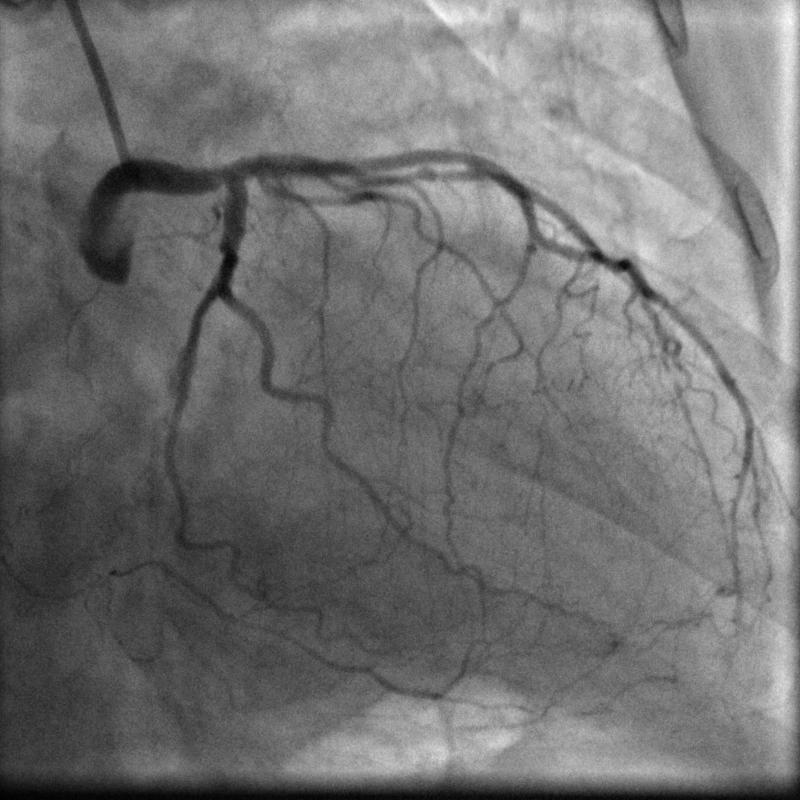Stenosis: (399, 162, 475, 190)
